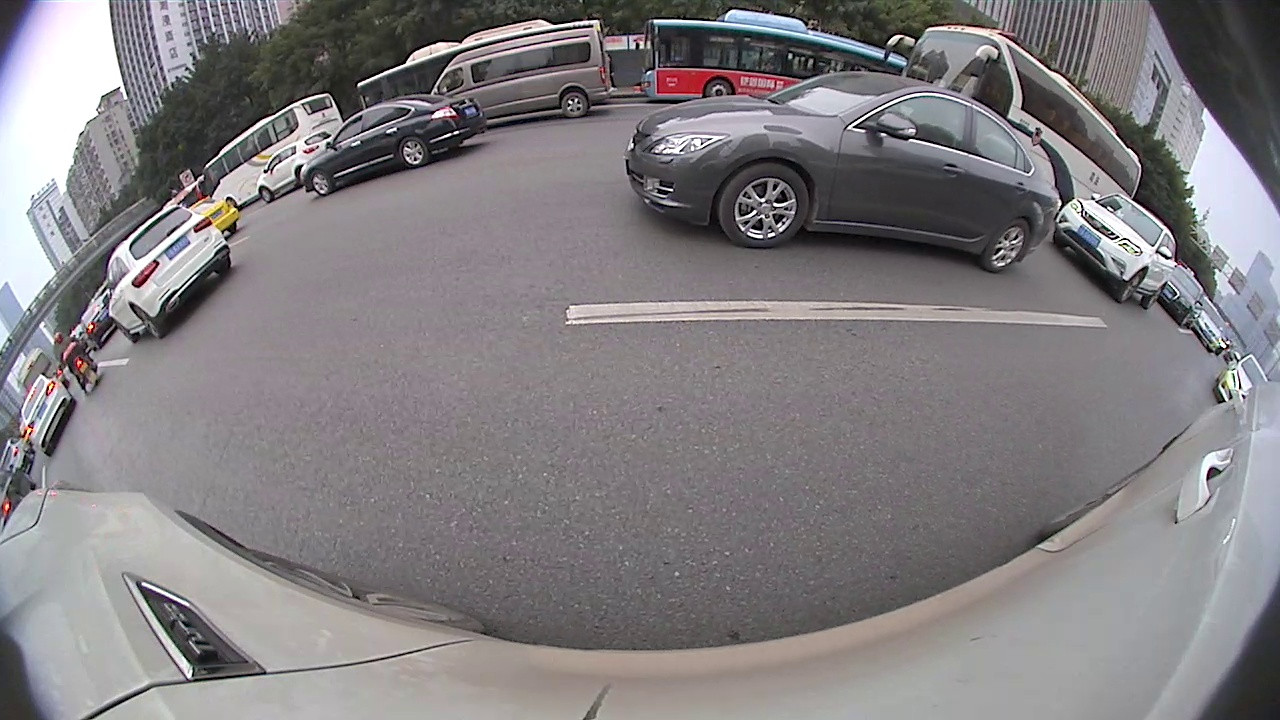bus: (879, 19, 1141, 206), (642, 10, 919, 104), (355, 14, 554, 110), (202, 92, 343, 209)
car: (628, 66, 1059, 277), (299, 91, 493, 198), (102, 201, 235, 343), (427, 23, 612, 120), (1053, 186, 1176, 312), (258, 131, 335, 209), (17, 371, 74, 455), (1216, 352, 1267, 410), (1164, 257, 1202, 325), (1190, 290, 1228, 355), (78, 297, 123, 346), (183, 199, 228, 238), (1, 439, 33, 475)
front: (718, 160, 809, 251), (1112, 269, 1147, 301), (310, 171, 331, 194), (703, 80, 733, 96), (259, 185, 273, 201)
rear: (982, 219, 1031, 271), (132, 304, 164, 337), (399, 139, 427, 168), (560, 93, 589, 118), (1141, 287, 1163, 309)
rider: (45, 329, 100, 394)
